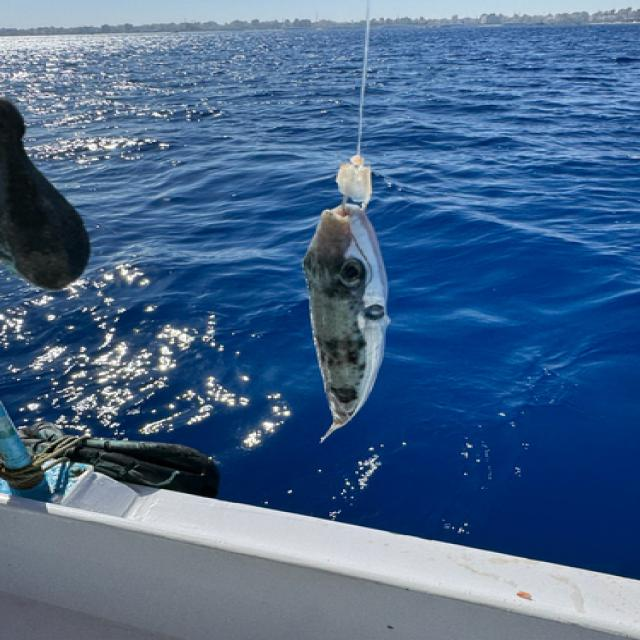Balik: (304, 204, 389, 441), (0, 98, 90, 290)
